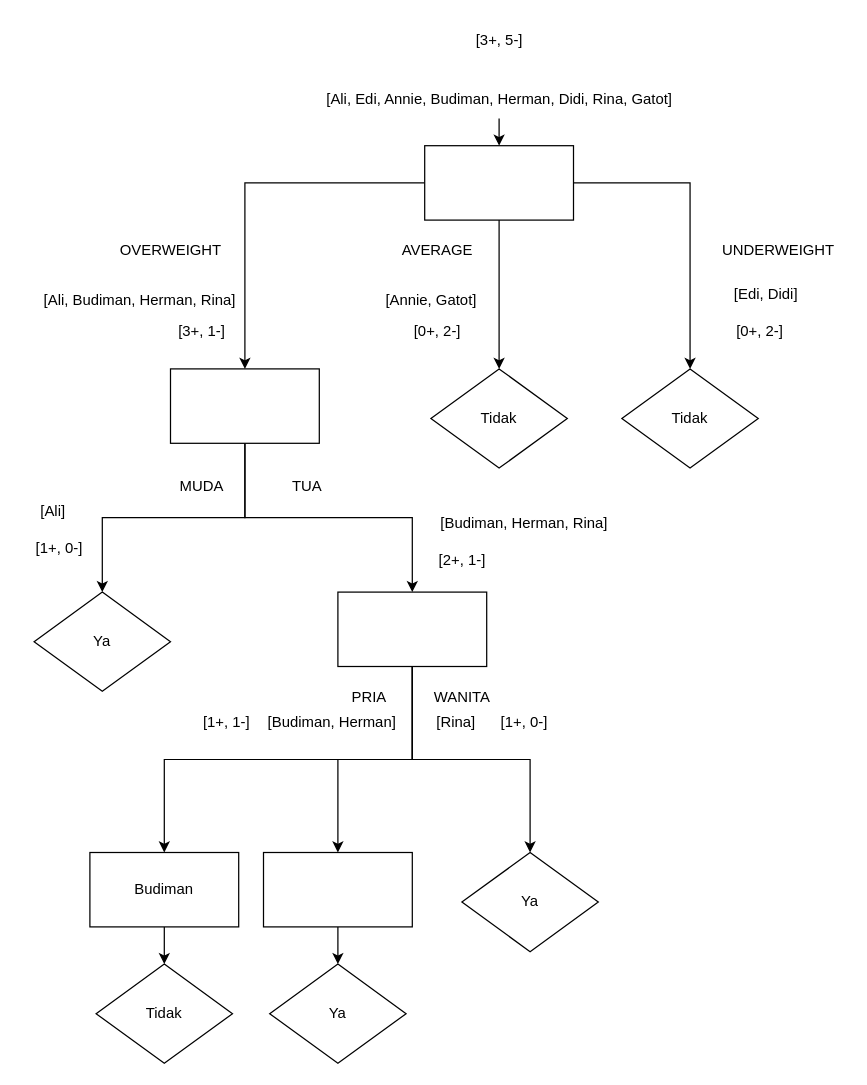
Some shapes in this 867 by 1085 pixel diagram are drawn without their labels. The centre of each missing label's shape, as x and y in pixels:
Berat: the point at 498,182
Herman: the point at 337,889
Kelamin: the point at 412,628
Usia: the point at 244,405
